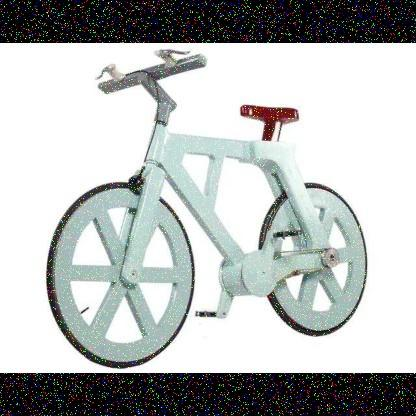Bicycle: (35, 43, 373, 377)
